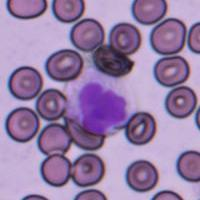N: (62, 70, 130, 136)
